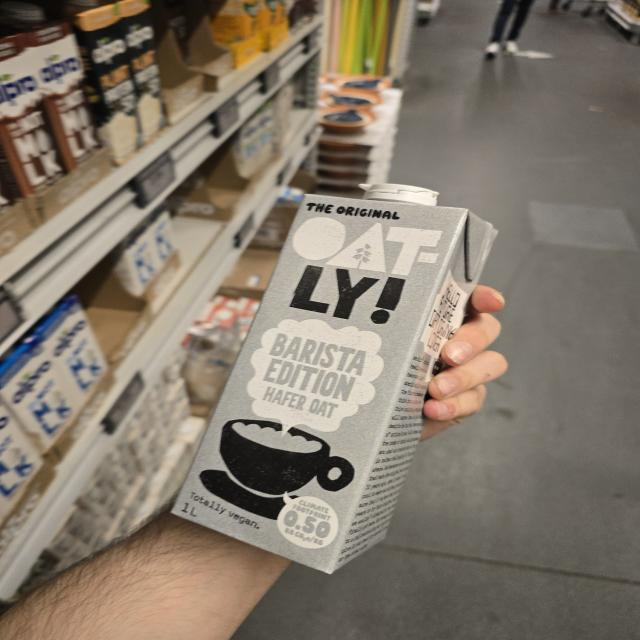Milk: (171, 183, 500, 574)
